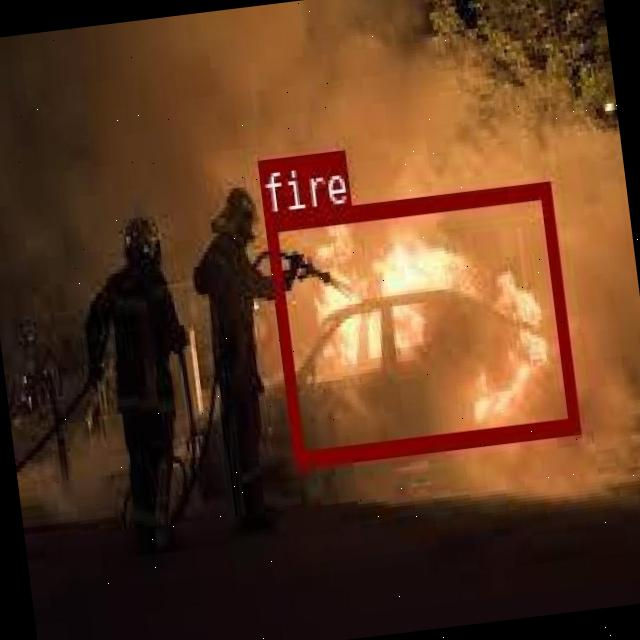fire: (263, 180, 578, 462)
